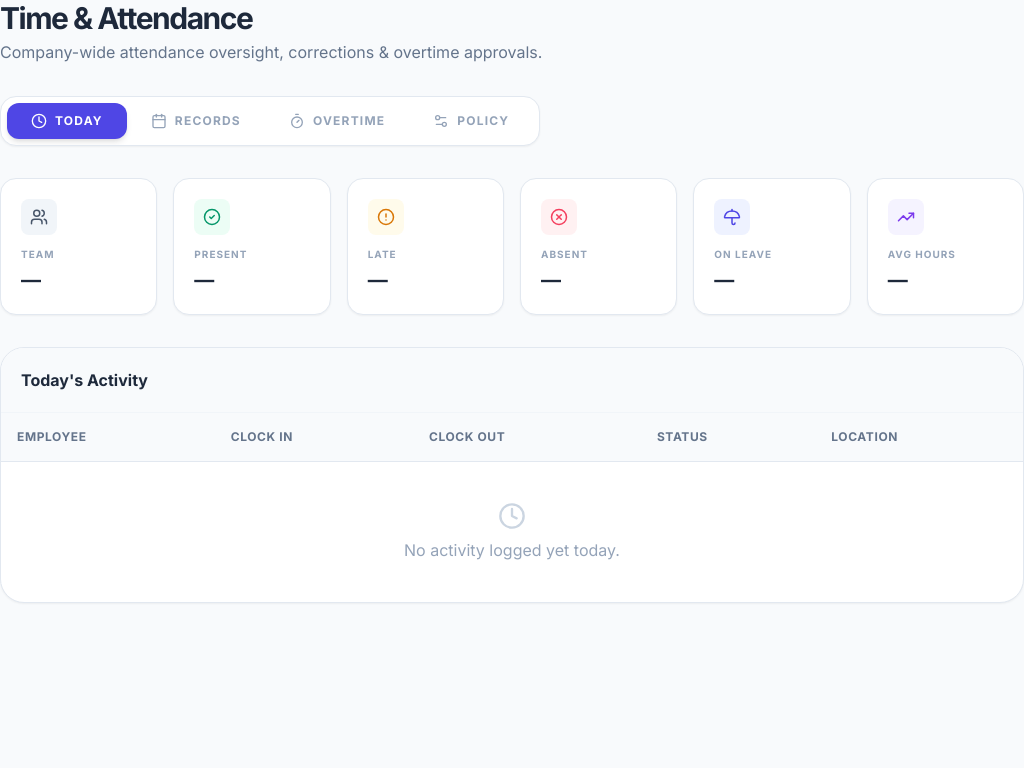
Test case: AttendanceManagement (admin) › Overtime tab › opens the review modal pre-filled with the request's hours and comment
What coordinates should you click on to do the following:
click the button "Overtime"
I would click on:
 (337, 121)
Its box is top-left (265, 103), bottom-right (409, 139).
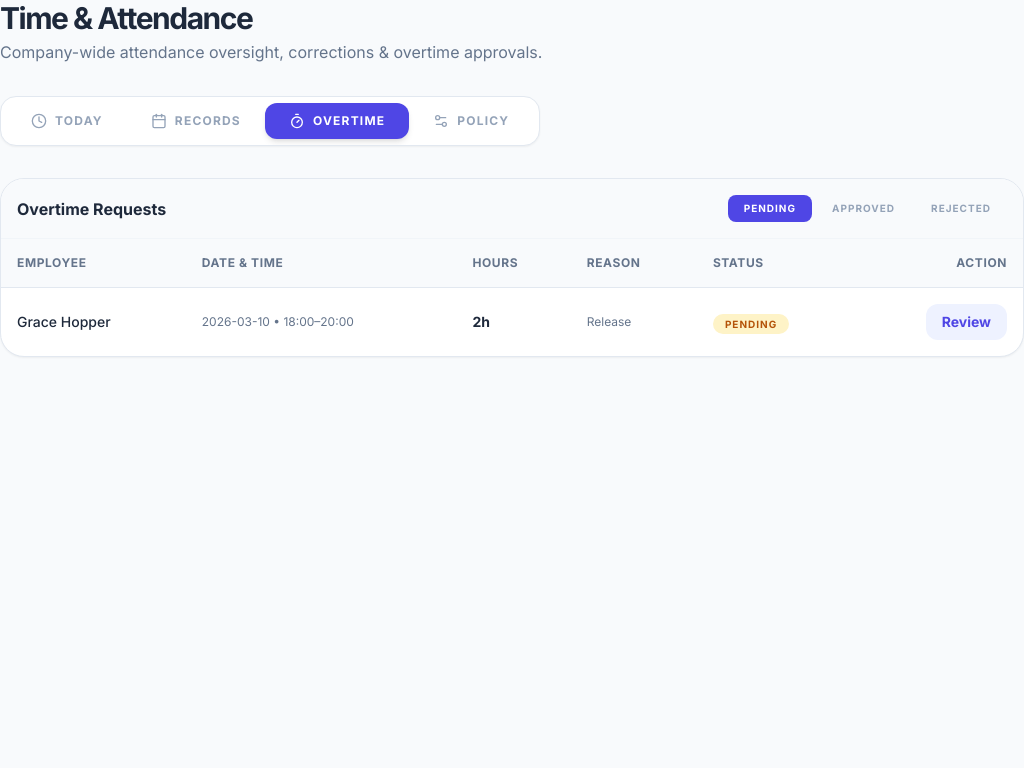
What coordinates should you click on to do the following:
click the button "Review"
I would click on:
 (966, 322)
Its box is top-left (926, 304), bottom-right (1007, 340).
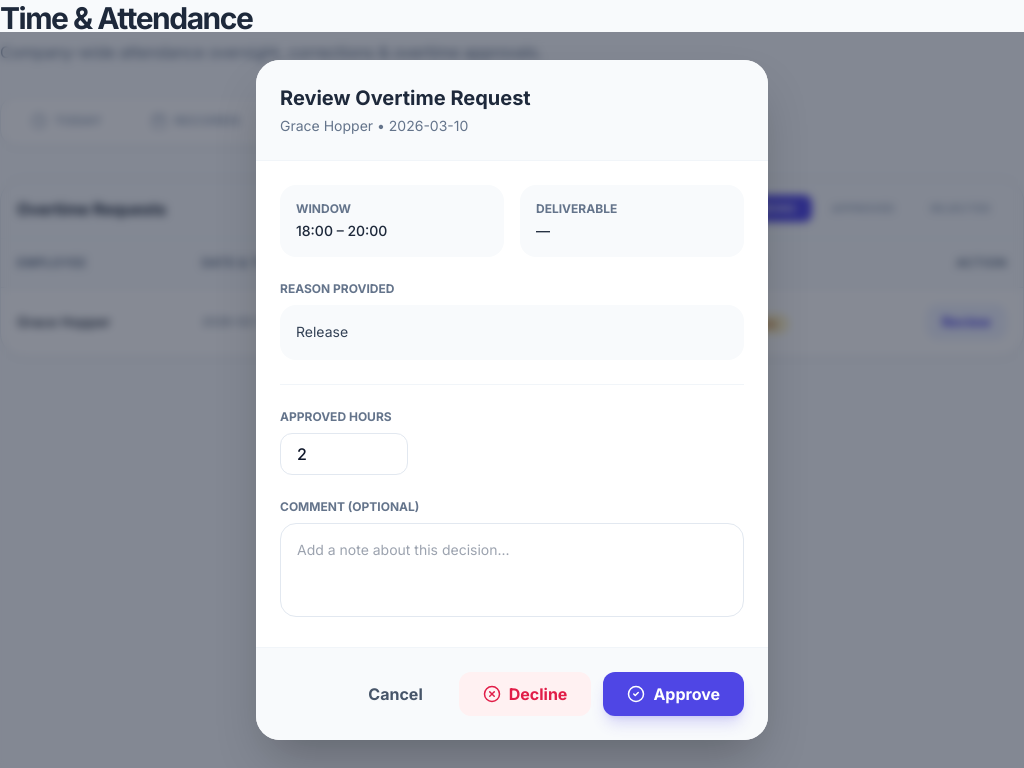
Now the heading "Review Overtime Request" is shown, box top-left (280, 86), bottom-right (531, 110)
Now the number field showing "2" is shown, box top-left (280, 433), bottom-right (408, 475)
